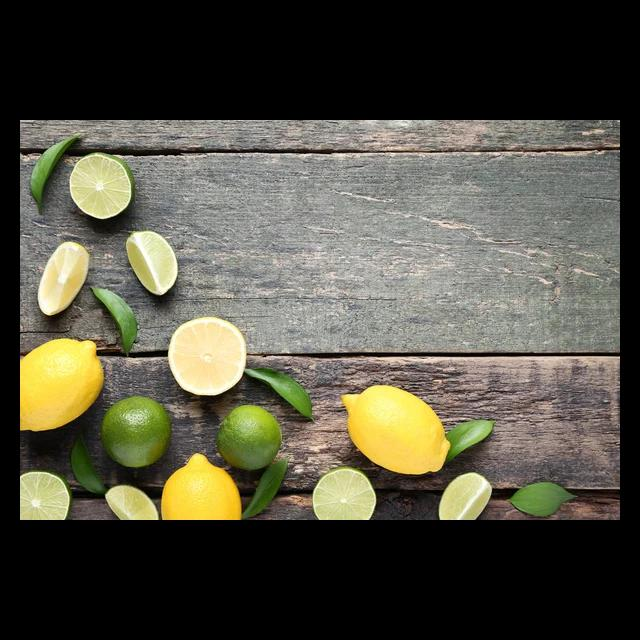lime: (96, 390, 176, 475), (207, 400, 294, 477)
